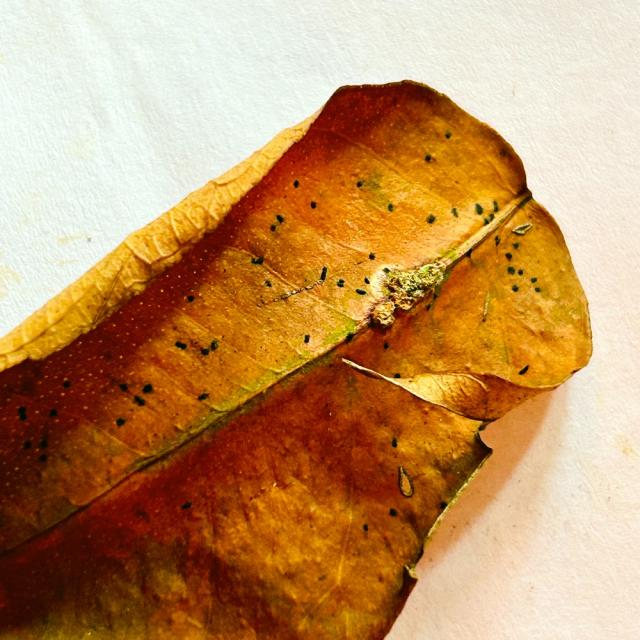DryLeaf_Lemon: (0, 83, 591, 639)
